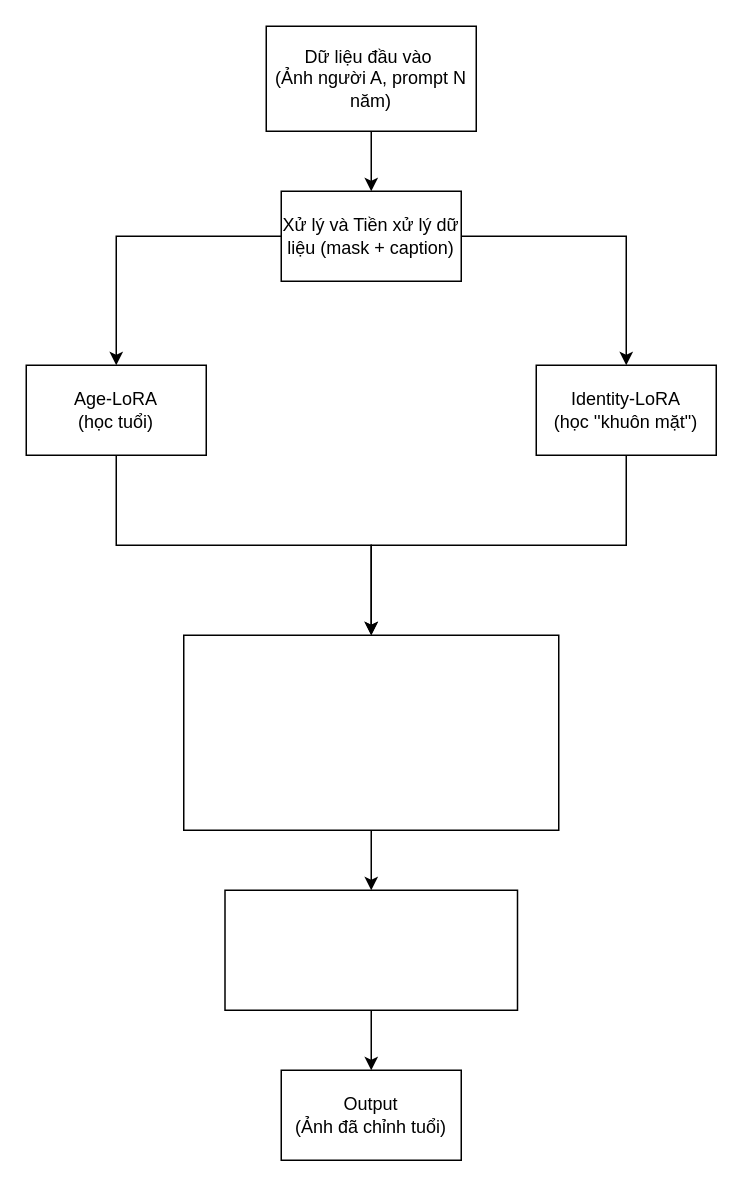
Some shapes in this 743 by 1187 pixel diagram are drawn without their labels. The shapes that lost their labels are listed below. From the top down, each one's centre as x and y in pixels, then its label:
pixel 370 732: Stable Diffusion 1.5 Unet ((denoising latent, cross-attn LoRA))
pixel 371 949: Inpainting Conditioning (ảnh gốc + mask + noise z_t)
